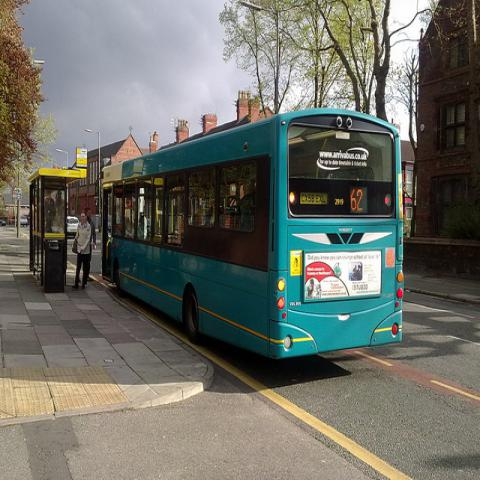bus: (101, 111, 402, 361)
car: (66, 216, 80, 238), (20, 214, 28, 227)
